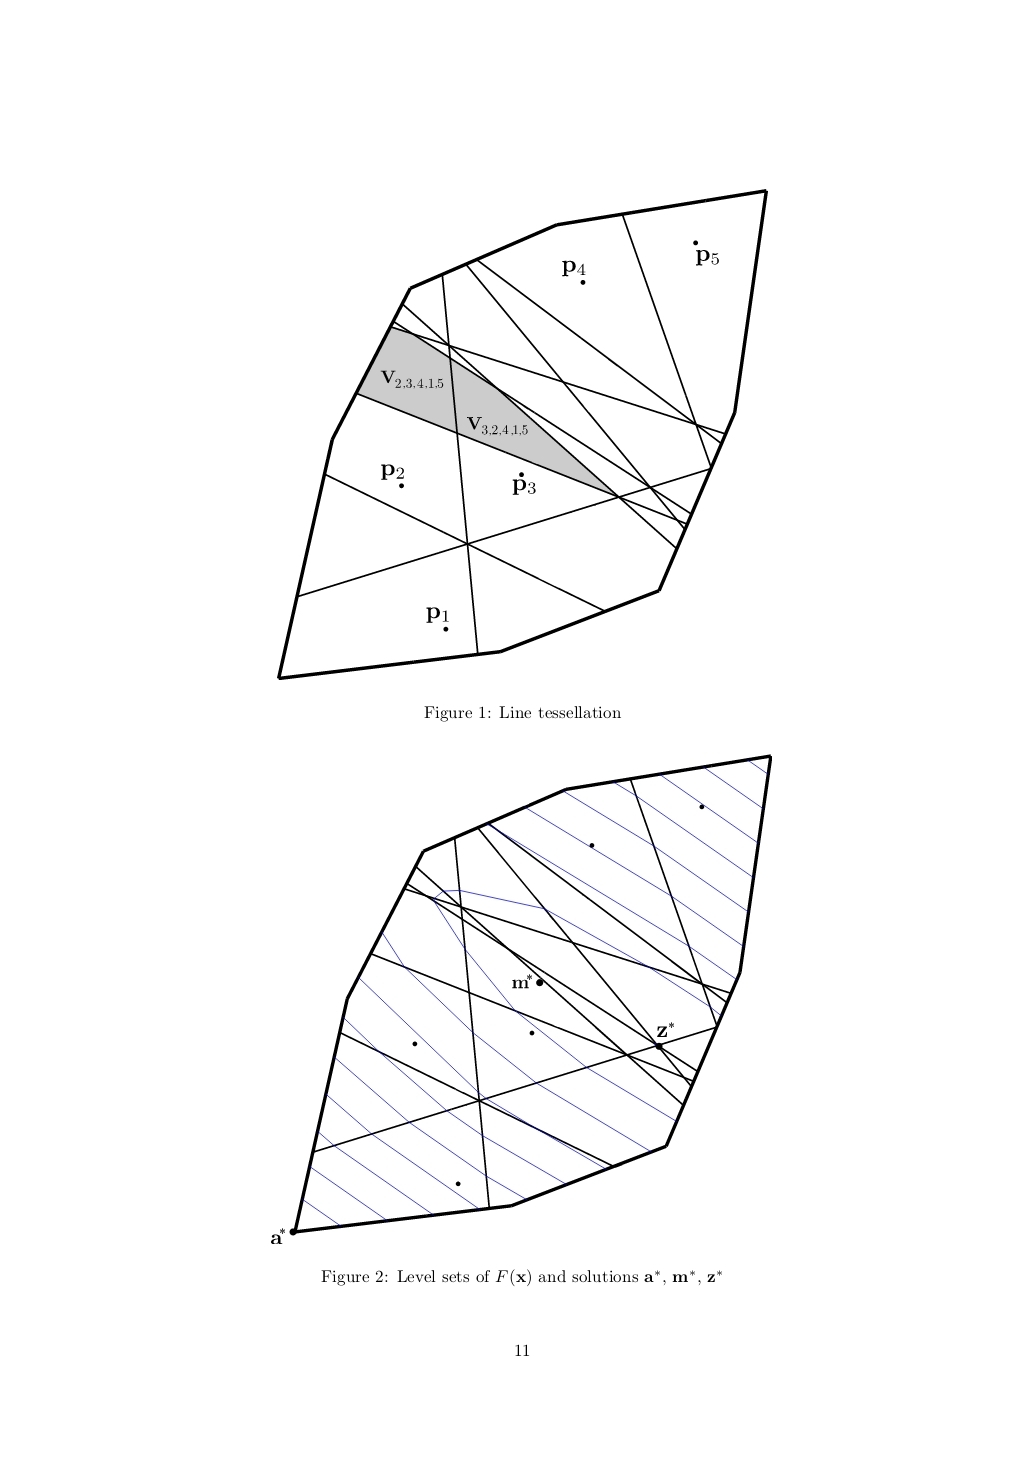figure: (271, 752, 771, 1244), (277, 189, 767, 680)
